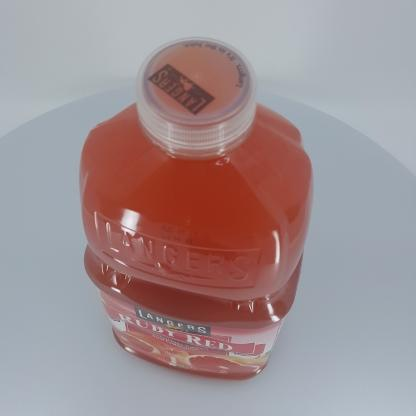-------------: (79, 37, 314, 380)
